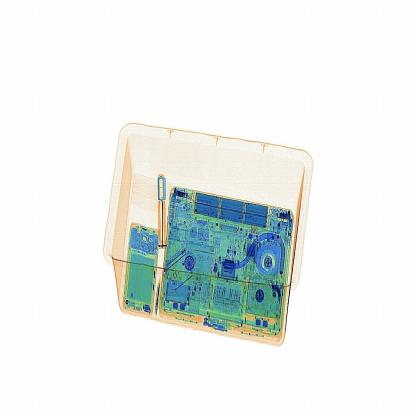wrench: (149, 164, 177, 262)
